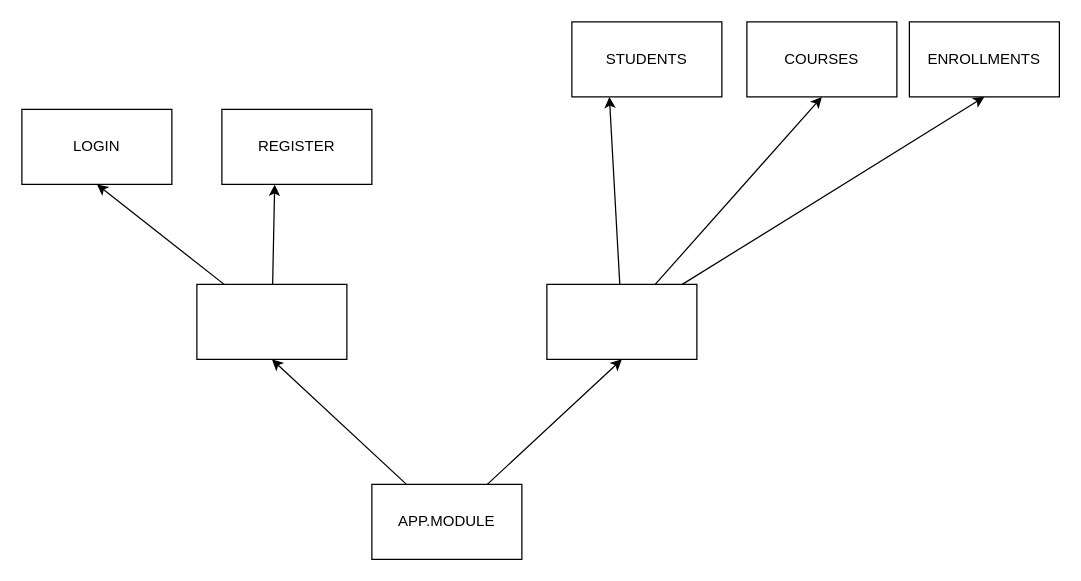
The diagram is 1081 pixels wide and 581 high, and some of its shapes have lost their labels. Each missing label, with the centre of its shape:
"APP (DASHBOARD) PANEL ADMINISTRATIVO" belongs at pixel 621 321.
"AUTH" belongs at pixel 271 321.
